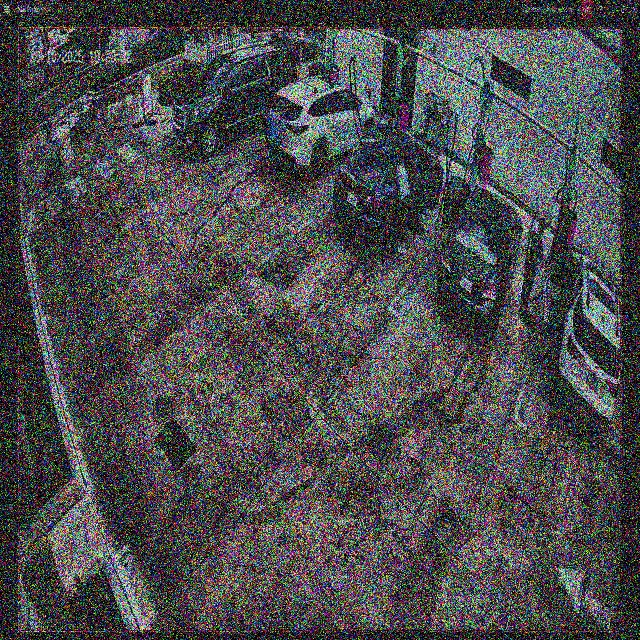Car: (334, 120, 442, 247), (174, 47, 297, 153), (442, 178, 522, 329), (268, 78, 377, 174)
